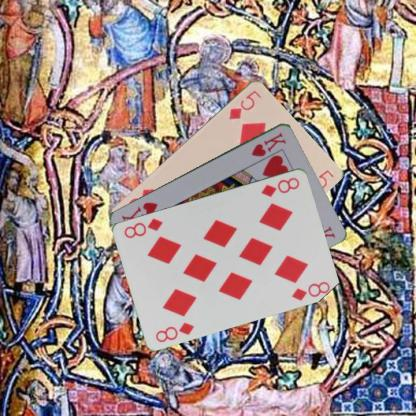5d: (226, 87, 263, 122)
8d: (153, 319, 195, 343), (258, 175, 301, 198)
Kh: (248, 129, 288, 158)
